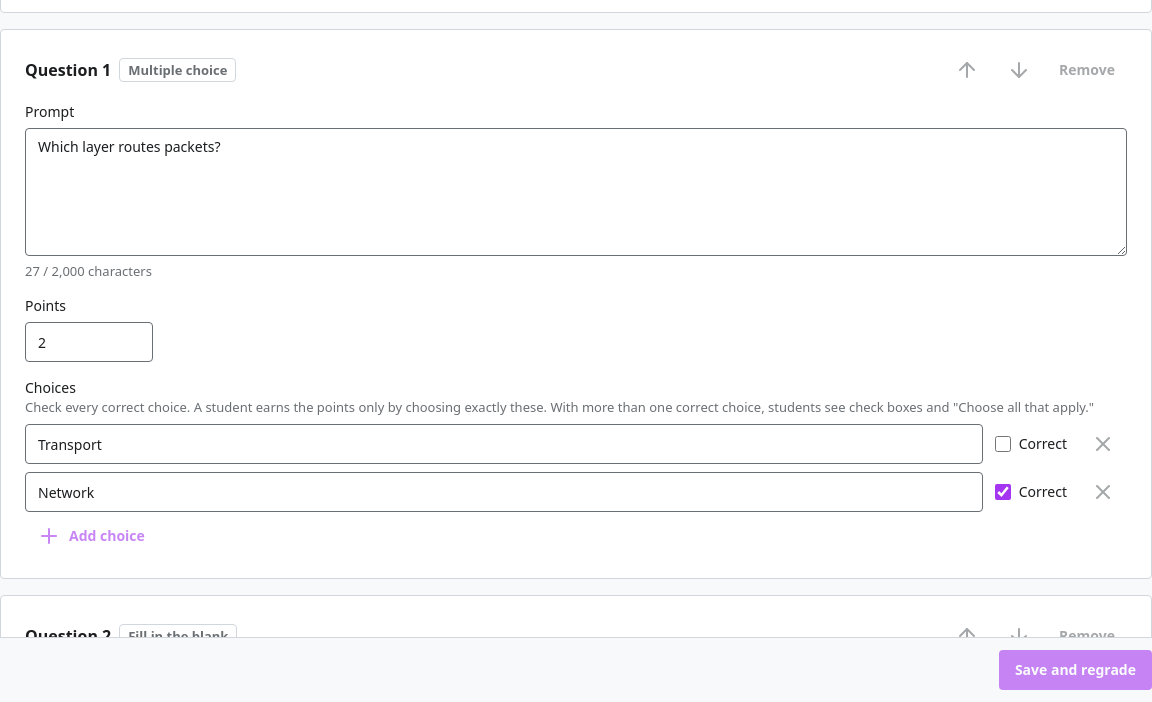
with attempts: note shown, structure disabled, inputs enabled, ids sent, confirm names the count, status names the regrade
(page scrolled)
Expected: the button named "Move question 1 down" is disabled, [995, 54, 1043, 86]
Expected: the button named "Move question 2 up" is disabled, [943, 620, 991, 652]
Replace the text in the field labelled "Points" with "3" at x=89, y=342, box [25, 322, 153, 362]
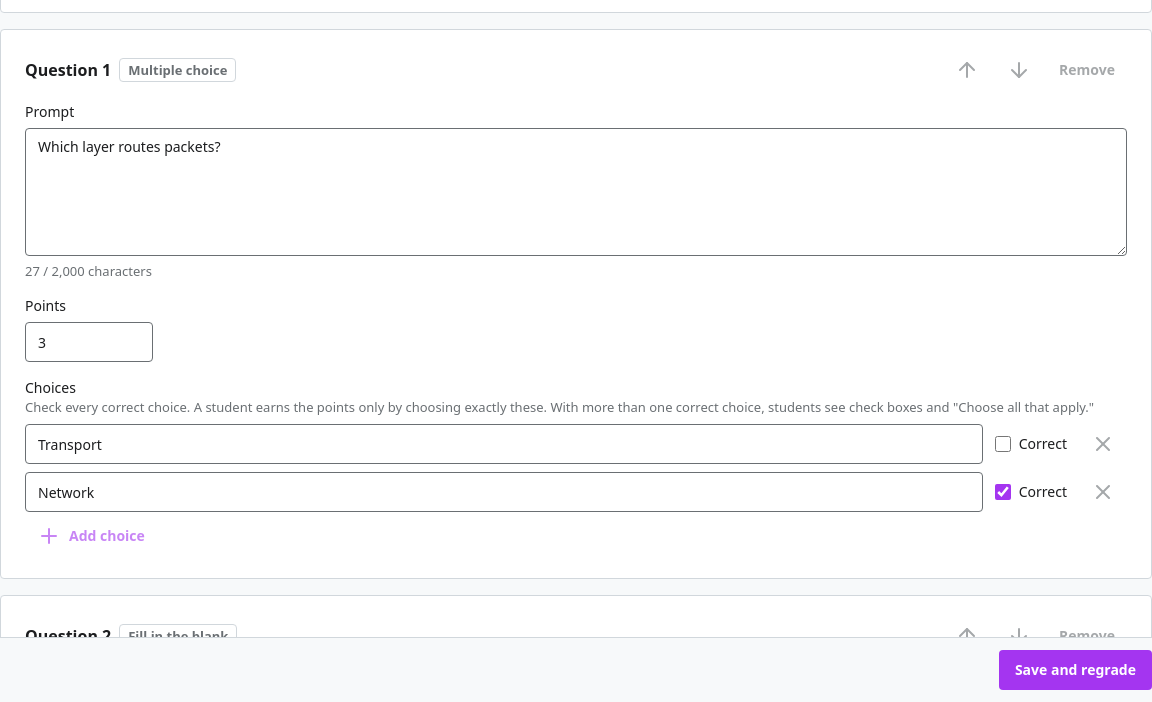
Replace the text in the field named "Choice 2" with "Net" at x=504, y=492, box [25, 472, 983, 512]
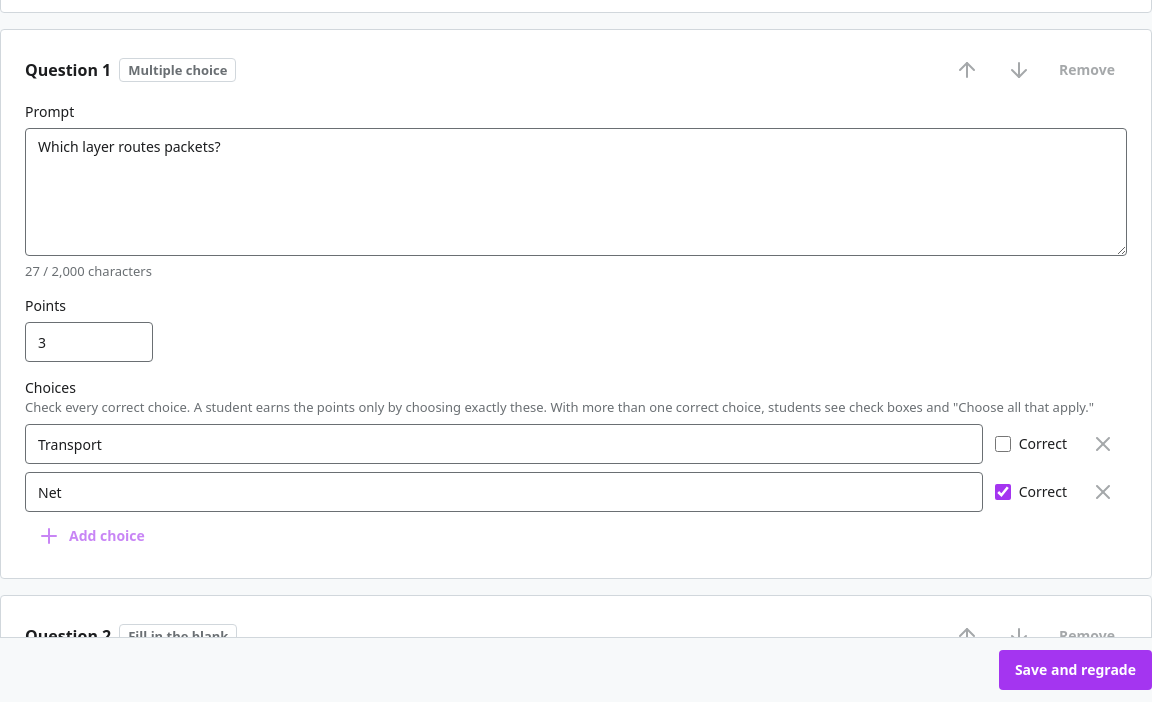
Click the checkbox named "Correct (choice 1)".
click(1003, 444)  # box [995, 436, 1011, 452]
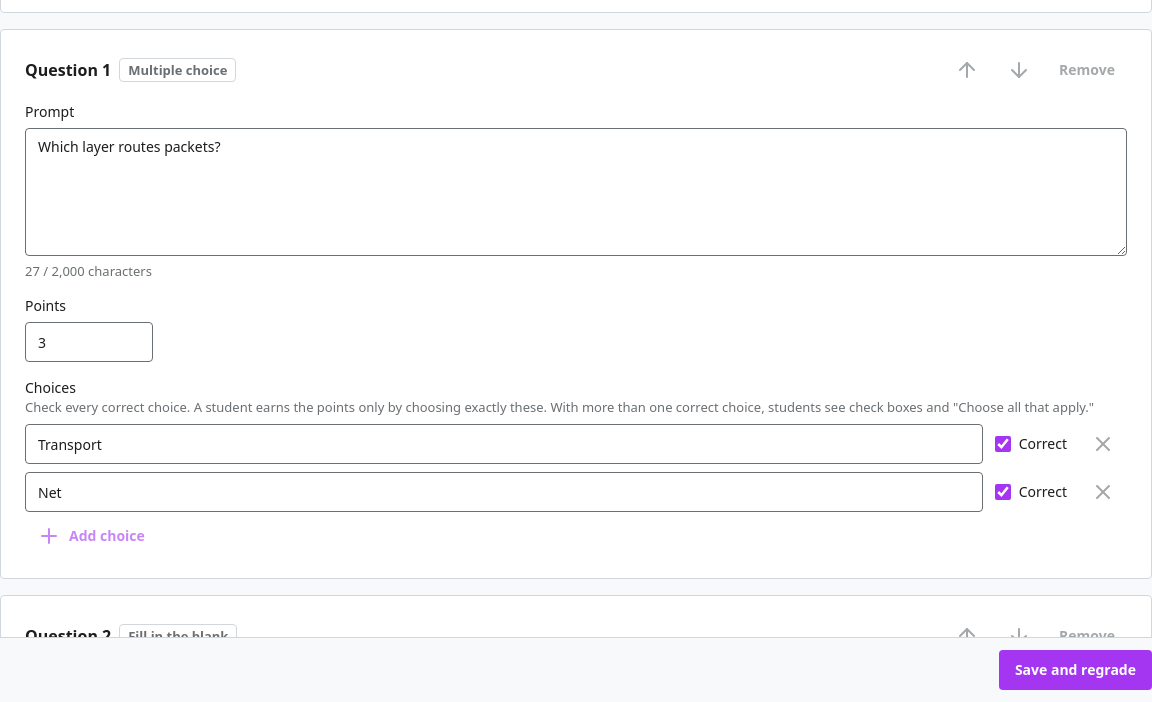
Click the button "Save and regrade".
click(1075, 670)  # box [999, 650, 1151, 690]
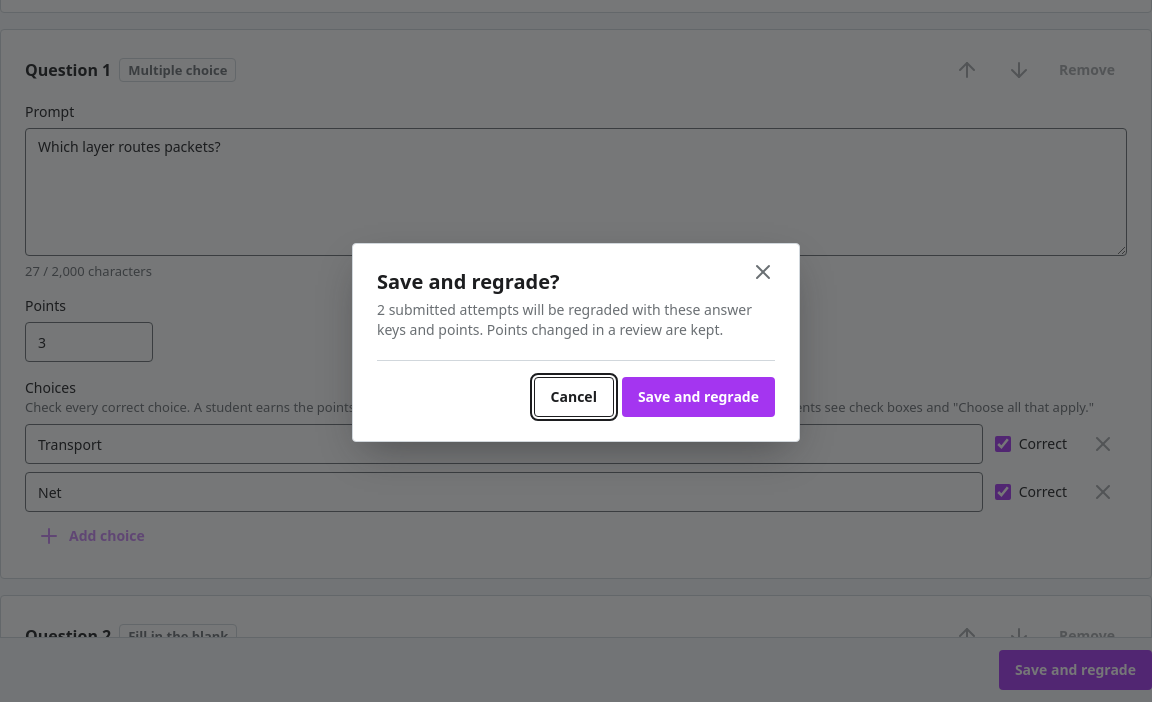
Expected: the dialog "Save and regrade?" shows "2 submitted attempts will be regraded with these answer keys and points. Points changed in a review are kept.", [377, 300, 752, 338]
Click the button "Save and regrade".
click(698, 396)  # box [622, 376, 775, 416]
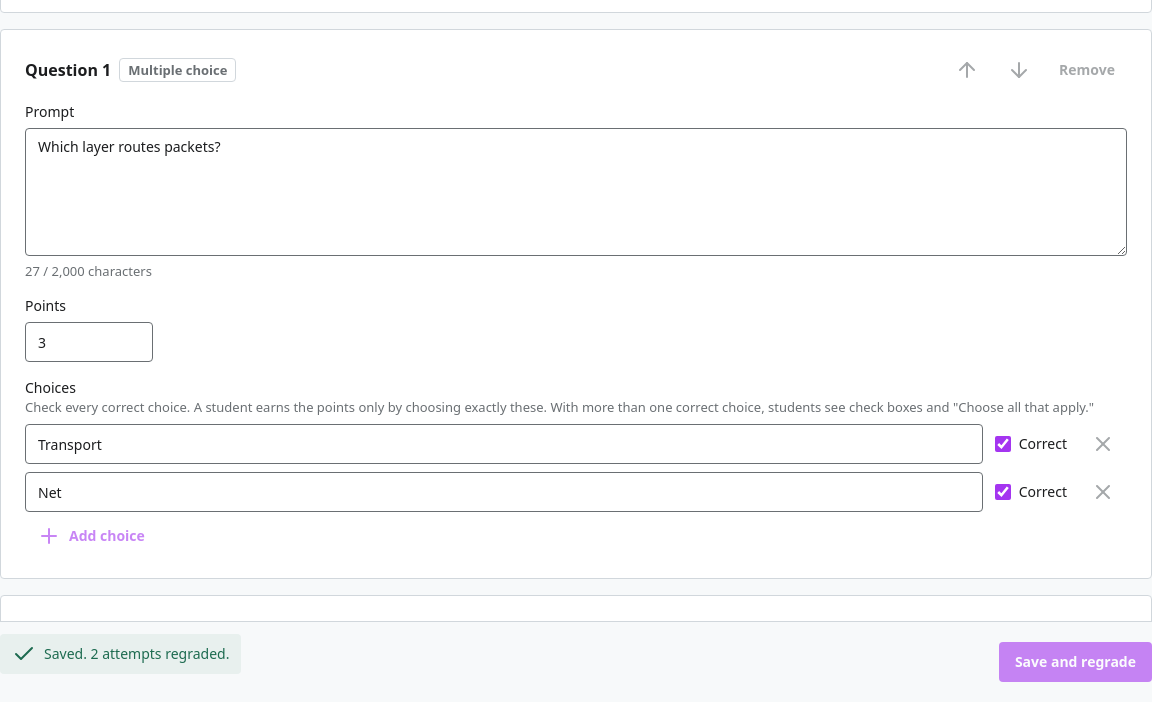
Expected: the text "Saved. 2 attempts regraded." is shown, [0, 634, 241, 674]
